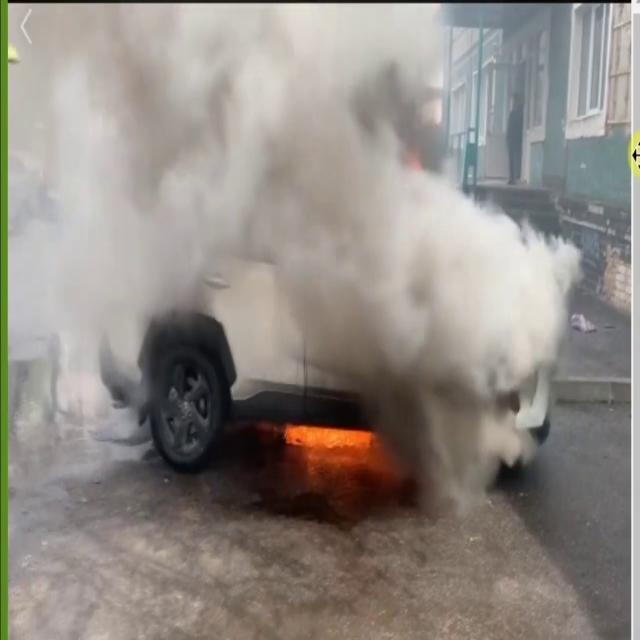Smoke: (12, 3, 584, 496)
